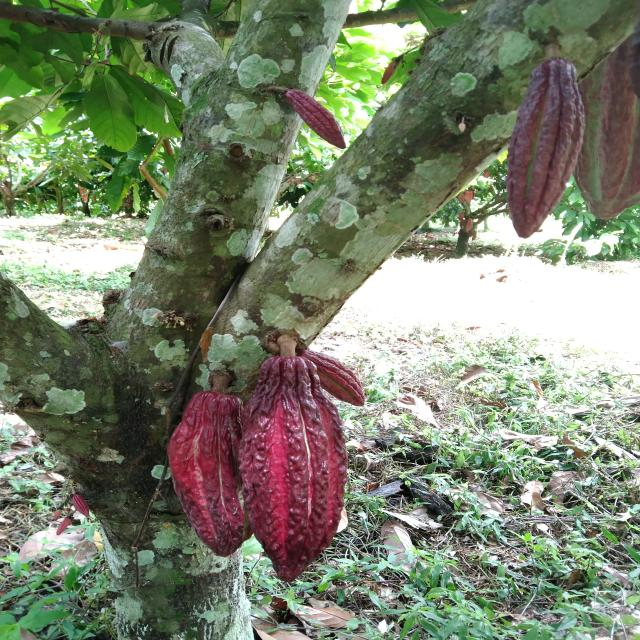Sana: (244, 357, 342, 583), (163, 396, 255, 561), (505, 59, 581, 236), (569, 46, 640, 218), (278, 90, 345, 153), (304, 352, 367, 412)
